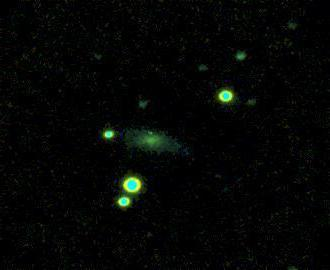star: (138, 121, 168, 151)
